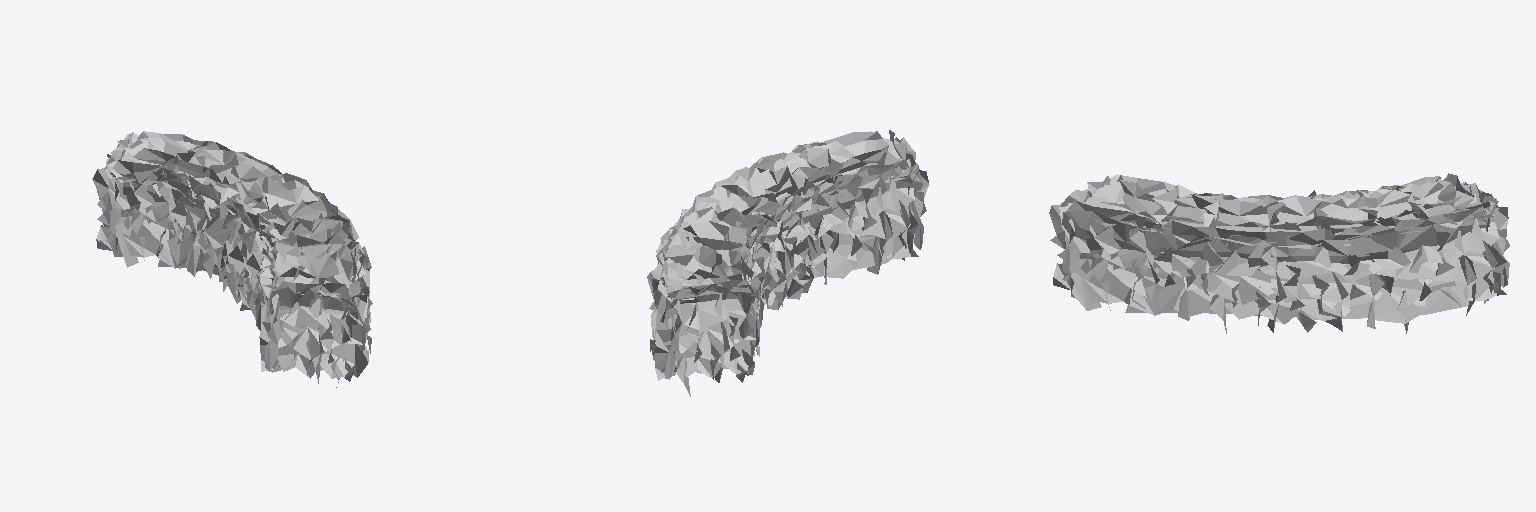
The picture shows the model from 3 angles: view 1: azimuth 30°, elevation 25°; view 2: azimuth 150°, elevation 25°; view 3: azimuth 270°, elevation 25°; orthographic projection.
Visible parts, largest first — view 1: Bistro_Research_Exterior_bux_hedge_box_long_low_bend2_3991; view 2: Bistro_Research_Exterior_bux_hedge_box_long_low_bend2_3991; view 3: Bistro_Research_Exterior_bux_hedge_box_long_low_bend2_3991.
Part boxes in pixels (x1,y1,x2,y2): Bistro_Research_Exterior_bux_hedge_box_long_low_bend2_3991: (92,131,372,387); Bistro_Research_Exterior_bux_hedge_box_long_low_bend2_3991: (647,130,928,396); Bistro_Research_Exterior_bux_hedge_box_long_low_bend2_3991: (1049,173,1509,333).
Bounding box in the file's own units: 2.43 × 1.95 × 6.59.